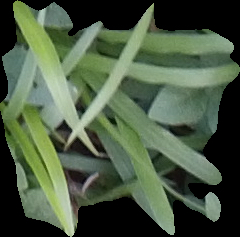grass: (1, 1, 239, 236)
